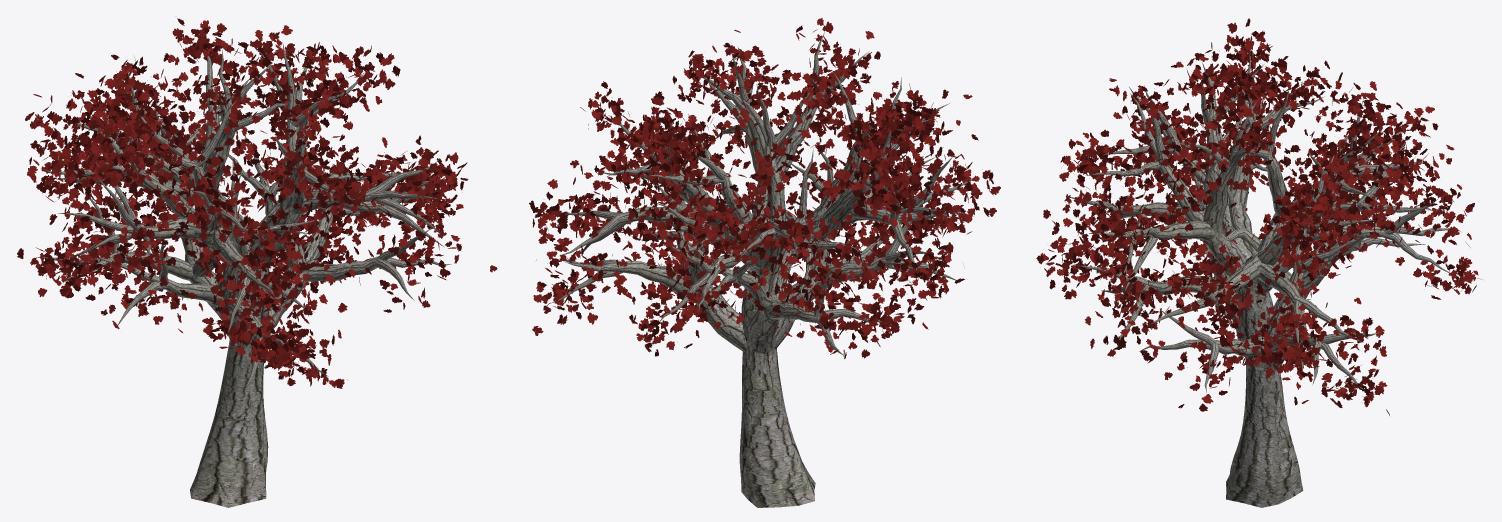
3 views of the same model, side by side, from view 1: azimuth 30°, elevation 25°; view 2: azimuth 150°, elevation 25°; view 3: azimuth 270°, elevation 25° (orthographic). The views are drawn at different scales.
Parts seen in each view (by area): view 1: Arce foliage cards, Arce_EasyTree_V021_Proof; view 2: Arce foliage cards, Arce_EasyTree_V021_Proof; view 3: Arce foliage cards, Arce_EasyTree_V021_Proof.
Part boxes in pixels (left/top/right/bottom): Arce foliage cards: left=17, top=18, right=497, bottom=388; Arce_EasyTree_V021_Proof: left=36, top=34, right=451, bottom=507; Arce foliage cards: left=529, top=18, right=1000, bottom=358; Arce_EasyTree_V021_Proof: left=550, top=32, right=973, bottom=507; Arce foliage cards: left=1036, top=18, right=1481, bottom=415; Arce_EasyTree_V021_Proof: left=1065, top=51, right=1449, bottom=507.
Size of the model in its own units: 6.87 by 6.75 by 6.61.
2 materials, 2 textured.
